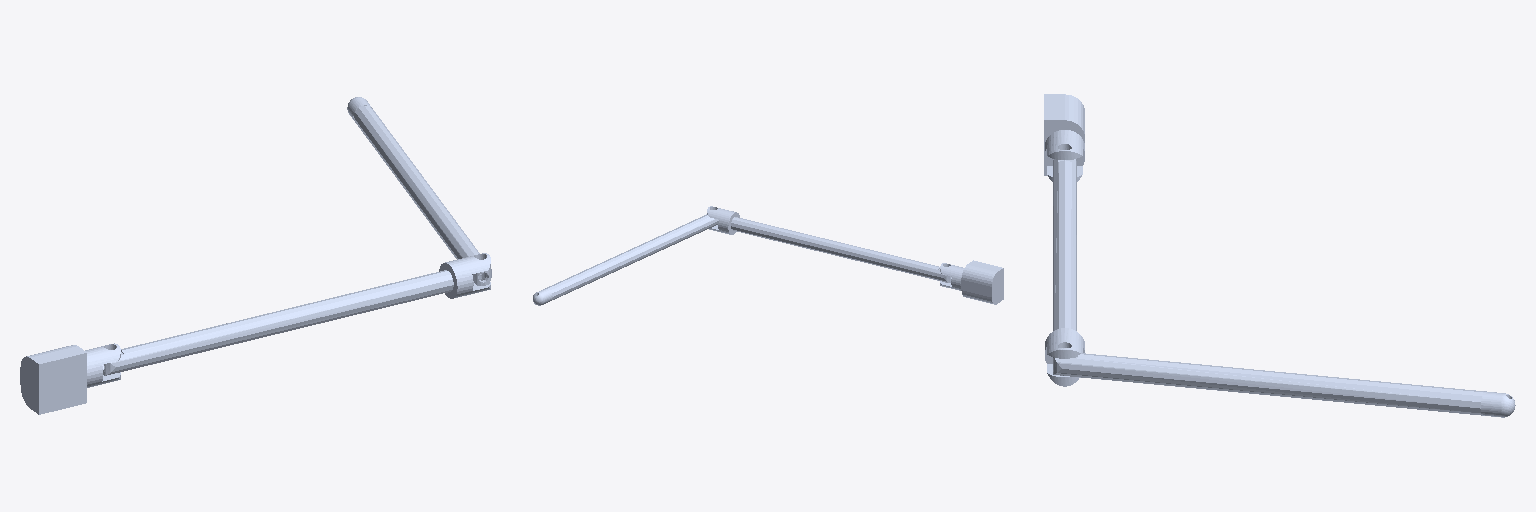
robot.urdf — AssemblyVersion3.2:
<?xml version="1.0" encoding="utf-8"?>
<!-- This URDF was automatically created by SolidWorks to URDF Exporter! Originally created by [author] ([email redacted]) 
     Commit Version: 1.6.0-4-g7f85cfe  Build Version: 1.6.7995.38578
     For more information, please see http://wiki.ros.org/sw_urdf_exporter -->
<robot
  name="AssemblyVersion3.2">
  <link
    name="base_link">
    <inertial>
      <origin
        xyz="-0.0195498159547283 -0.000584889927396803 1.11022302462516E-16"
        rpy="0 0 0" />
      <mass
        value="0.0461625320172136" />
      <inertia
        ixx="4.45483111633052E-06"
        ixy="-1.21549692223377E-08"
        ixz="2.84942757035597E-21"
        iyy="6.86854963092909E-06"
        iyz="-2.90894000782807E-22"
        izz="5.18467134671341E-06" />
    </inertial>
    <visual>
      <origin
        xyz="0 0 0"
        rpy="0 0 0" />
      <geometry>
        <mesh
          filename="package://AssemblyVersion3.2/meshes/base_link.STL" />
      </geometry>
      <material
        name="">
        <color
          rgba="0.866666666666667 0.909803921568627 1 1" />
      </material>
    </visual>
    <collision>
      <origin
        xyz="0 0 0"
        rpy="0 0 0" />
      <geometry>
        <mesh
          filename="package://AssemblyVersion3.2/meshes/base_link.STL" />
      </geometry>
    </collision>
  </link>
  <link
    name="Link0">
    <inertial>
      <origin
        xyz="0.003726862214672 5.10473197046224E-09 -6.23320973724972E-08"
        rpy="0 0 0" />
      <mass
        value="0.0111128785283994" />
      <inertia
        ixx="6.7038290214441E-07"
        ixy="-7.55156730690612E-13"
        ixz="9.27716619995703E-12"
        iyy="8.35048525099662E-07"
        iyz="7.88693224183123E-12"
        izz="7.16780629952311E-07" />
    </inertial>
    <visual>
      <origin
        xyz="0 0 0"
        rpy="0 0 0" />
      <geometry>
        <mesh
          filename="package://AssemblyVersion3.2/meshes/Link0.STL" />
      </geometry>
      <material
        name="">
        <color
          rgba="0.866666666666667 0.909803921568627 1 1" />
      </material>
    </visual>
    <collision>
      <origin
        xyz="0 0 0"
        rpy="0 0 0" />
      <geometry>
        <mesh
          filename="package://AssemblyVersion3.2/meshes/Link0.STL" />
      </geometry>
    </collision>
  </link>
  <joint
    name="Joint0"
    type="revolute">
    <origin
      xyz="0 0 0"
      rpy="0 0 0" />
    <parent
      link="base_link" />
    <child
      link="Link0" />
    <axis
      xyz="-1 0 0" />
    <limit
      lower="-3.1415"
      upper="3.1415"
      effort="0"
      velocity="0" />
  </joint>
  <link
    name="Link1">
    <inertial>
      <origin
        xyz="0.127814729081165 -2.15120073976394E-08 -2.34849678593108E-08"
        rpy="0 0 0" />
      <mass
        value="0.0608713402317519" />
      <inertia
        ixx="1.76518741476544E-06"
        ixy="-1.28912364383798E-10"
        ixz="-5.6242561501806E-11"
        iyy="0.000197714301438233"
        iyz="6.44953981010129E-12"
        izz="0.000197606072141834" />
    </inertial>
    <visual>
      <origin
        xyz="0 0 0"
        rpy="0 0 0" />
      <geometry>
        <mesh
          filename="package://AssemblyVersion3.2/meshes/Link1.STL" />
      </geometry>
      <material
        name="">
        <color
          rgba="0.866666666666667 0.909803921568627 1 1" />
      </material>
    </visual>
    <collision>
      <origin
        xyz="0 0 0"
        rpy="0 0 0" />
      <geometry>
        <mesh
          filename="package://AssemblyVersion3.2/meshes/Link1.STL" />
      </geometry>
    </collision>
  </link>
  <joint
    name="Joint1"
    type="revolute">
    <origin
      xyz="0.0149999999999997 0 0"
      rpy="0 0 0" />
    <parent
      link="Link0" />
    <child
      link="Link1" />
    <axis
      xyz="0 0 -1" />
    <limit
      lower="-1.57"
      upper="1.57"
      effort="0"
      velocity="0" />
  </joint>
  <link
    name="Link2">
    <inertial>
      <origin
        xyz="0.107510735394755 -2.74564956326273E-08 -1.48089872586965E-08"
        rpy="0 0 0" />
      <mass
        value="0.0497584617033535" />
      <inertia
        ixx="1.09480451262106E-06"
        ixy="-1.28157207362606E-10"
        ixz="-6.55197276621747E-11"
        iyy="0.000196879252913137"
        iyz="-1.43739243149624E-12"
        izz="0.000196889291511885" />
    </inertial>
    <visual>
      <origin
        xyz="0 0 0"
        rpy="0 0 0" />
      <geometry>
        <mesh
          filename="package://AssemblyVersion3.2/meshes/Link2.STL" />
      </geometry>
      <material
        name="">
        <color
          rgba="0.866666666666667 0.909803921568627 1 1" />
      </material>
    </visual>
    <collision>
      <origin
        xyz="0 0 0"
        rpy="0 0 0" />
      <geometry>
        <mesh
          filename="package://AssemblyVersion3.2/meshes/Link2.STL" />
      </geometry>
    </collision>
  </link>
  <joint
    name="Joint2"
    type="revolute">
    <origin
      xyz="0.23 0 0"
      rpy="0 0 0" />
    <parent
      link="Link1" />
    <child
      link="Link2" />
    <axis
      xyz="0 0 -1" />
    <limit
      lower="-0.1"
      upper="-2.6"
      effort="0"
      velocity="0" />
  </joint>
  <link
    name="EndEffector">
    <inertial>
      <origin
        xyz="-0.00859371804014564 -2.32527459509413E-08 5.53126988656061E-09"
        rpy="0 0 0" />
      <mass
        value="0.00304264188191374" />
      <inertia
        ixx="6.43879897209614E-08"
        ixy="4.12813230500883E-13"
        ixz="-1.27065305248795E-13"
        iyy="8.5107220447823E-08"
        iyz="-8.46655959797173E-14"
        izz="8.6692927052643E-08" />
    </inertial>
    <visual>
      <origin
        xyz="0 0 0"
        rpy="0 0 0" />
      <geometry>
        <mesh
          filename="package://AssemblyVersion3.2/meshes/EndEffector.STL" />
      </geometry>
      <material
        name="">
        <color
          rgba="0.866666666666667 0.909803921568627 1 1" />
      </material>
    </visual>
    <collision>
      <origin
        xyz="0 0 0"
        rpy="0 0 0" />
      <geometry>
        <mesh
          filename="package://AssemblyVersion3.2/meshes/EndEffector.STL" />
      </geometry>
    </collision>
  </link>
  <joint
    name="FixedJoint"
    type="fixed">
    <origin
      xyz="0.226 0 0"
      rpy="0 0 0" />
    <parent
      link="Link2" />
    <child
      link="EndEffector" />
    <axis
      xyz="0 0 0" />
  </joint>
</robot>

--- Render facts (derived) ---
3 views of the same robot in one strip: view 1: azimuth 30°, elevation 25°; view 2: azimuth 150°, elevation 25°; view 3: azimuth 270°, elevation 25° (orthographic).
Model AssemblyVersion3.2 with 5 links and 4 joints (3 revolute, 1 fixed), rooted at base_link, posed all joints at 0 but 1 set to mid-range because 0 is outside their limits (Joint2 = -1.35).
Links seen in each view (by area): view 1: Link1, Link2, base_link, Link0; view 2: Link1, Link2, base_link; view 3: Link2, Link1, base_link, Link0, EndEffector.
Link boxes in pixels (x1,y1,x2,y2): Link1: [102, 253, 490, 375]; Link2: [354, 106, 491, 285]; base_link: [20, 345, 86, 414]; Link0: [85, 343, 120, 387]; Link1: [707, 206, 951, 282]; Link2: [546, 214, 718, 299]; base_link: [961, 260, 1003, 304]; Link2: [1053, 353, 1483, 415]; Link1: [1045, 159, 1084, 386]; base_link: [1044, 94, 1084, 175]; Link0: [1045, 130, 1084, 181]; EndEffector: [1481, 391, 1515, 417].
Bounding box of the posed robot: 0.3342 × 0.2307 × 0.03 m (x, y, z).
Meshes: 5 distinct files referenced, 5 mesh visuals loaded (5 binary STL).